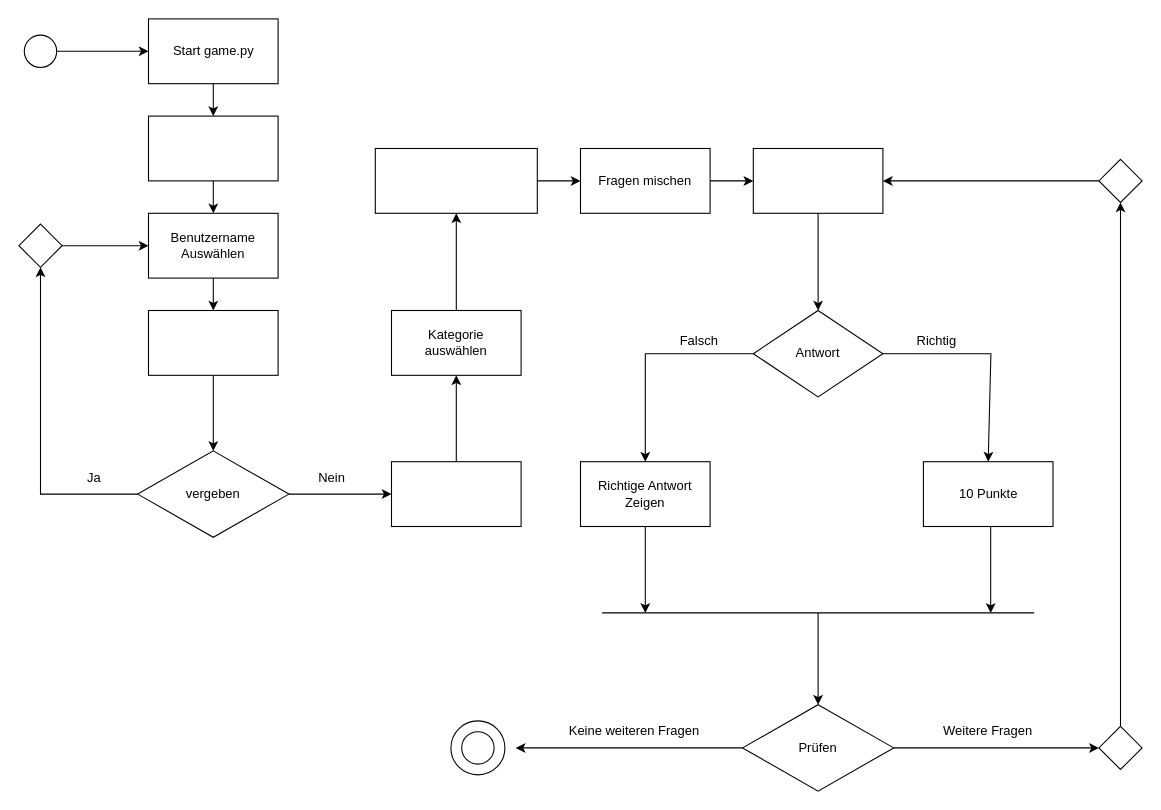
Image size: 1161x810. Some labels were removed from this diagram. Here are the shapes that lost their labels. From the top down, the centre of each, then its label:
point 212,148: Login
point 455,180: Fragen zur gewählten Kategorie laden
point 817,180: Frage stellen
point 212,342: Datenbank abfrage
point 455,493: Kategorien Laden
